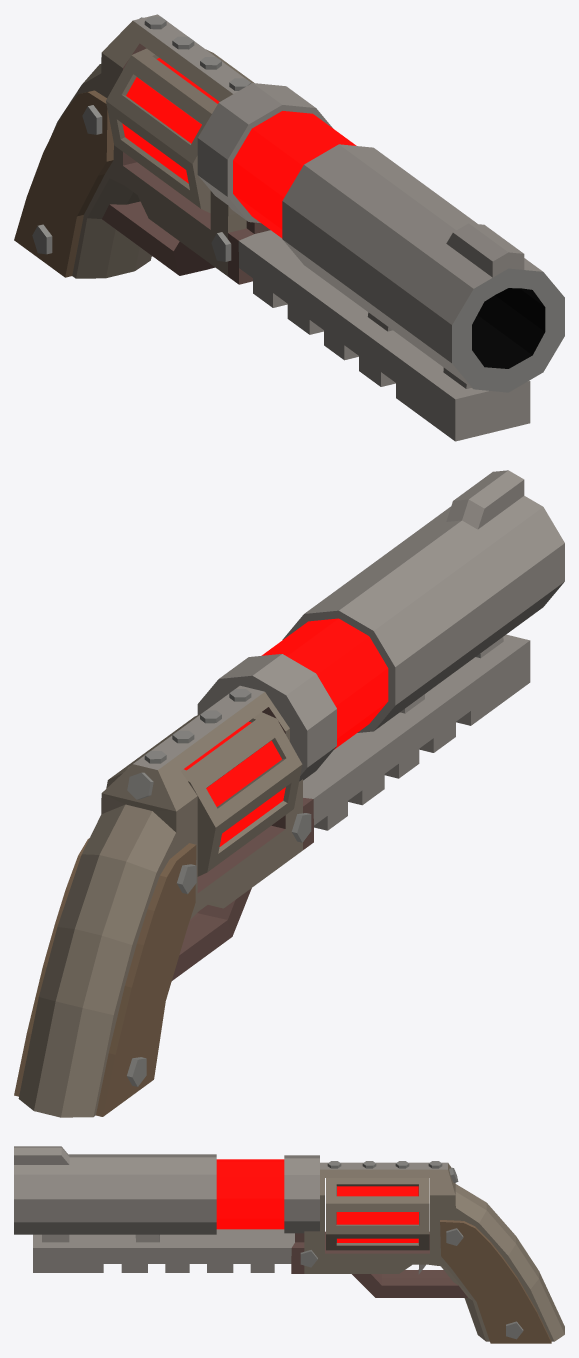
Rendered from hand cannon.fbx.
The picture shows the model from 3 angles, top to bottom: view 1: azimuth 30°, elevation 25°; view 2: azimuth 150°, elevation 25°; view 3: azimuth 270°, elevation 25°; orthographic projection. The views are drawn at different scales.
Parts seen in each view (by area): view 1: Cube, Cylinder.001; view 2: Cube, Cylinder.001; view 3: Cube, Cylinder.001.
Part boxes in pixels (box(x1,y1,x2,y2)): Cube: box(14, 14, 564, 441); Cylinder.001: box(106, 48, 253, 213); Cube: box(14, 470, 564, 1117); Cylinder.001: box(106, 712, 302, 876); Cube: box(14, 1146, 564, 1343); Cylinder.001: box(326, 1178, 429, 1250).
Size of the model in its own units: 11.72 by 29.15 by 79.49.
